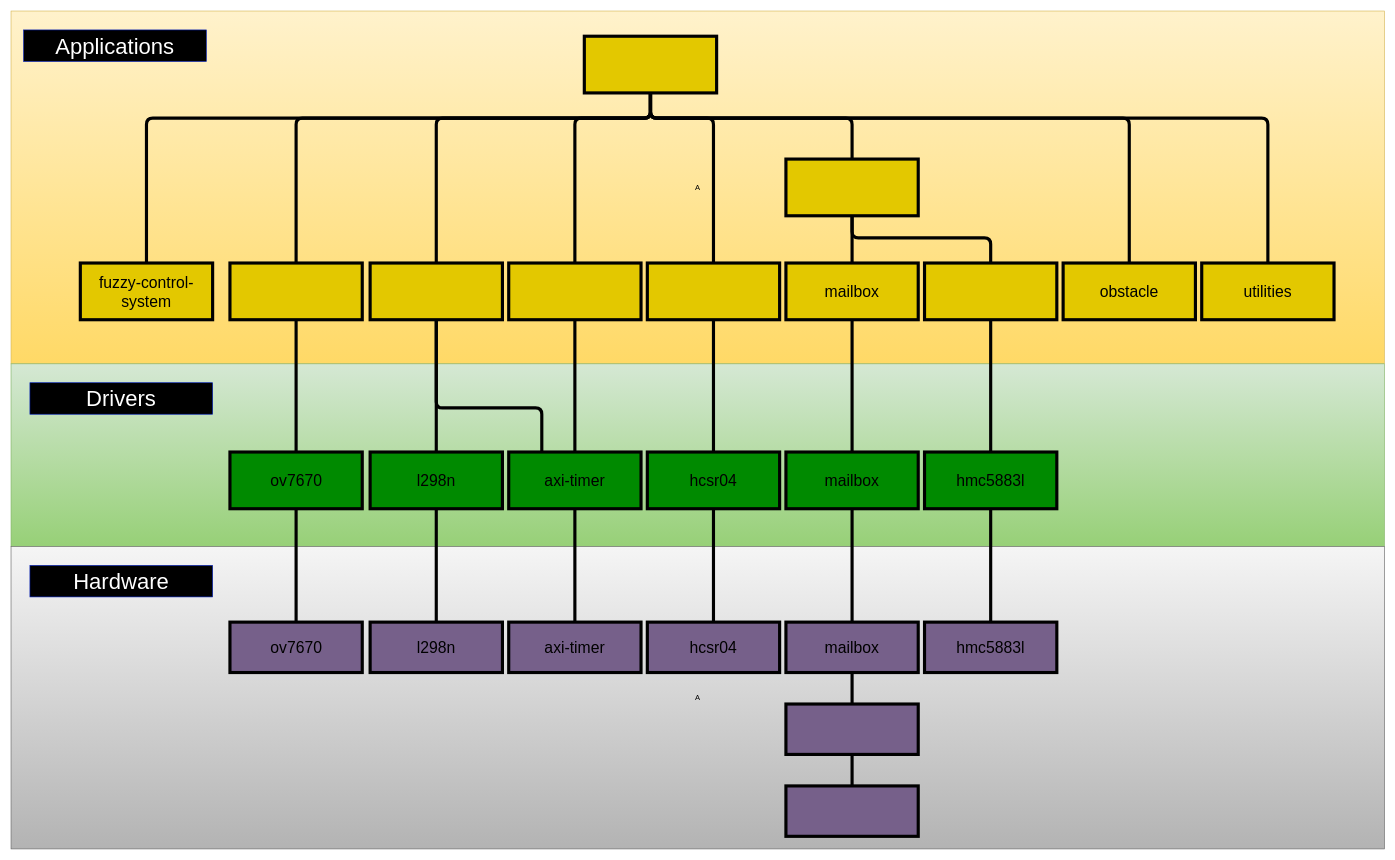
This 1395x860 diagram has some shape labels left out. The centre of each missing label's shape, as x and y in pixels:
capture-frame: pixel 296 291
compass: pixel 990 291
driver: pixel 436 291
encoders: pixel 851 811
hc-sr04: pixel 713 291
headlights: pixel 574 291
Microblaze: pixel 851 729
position-estimator: pixel 851 187
SmartNav: pixel 650 64
